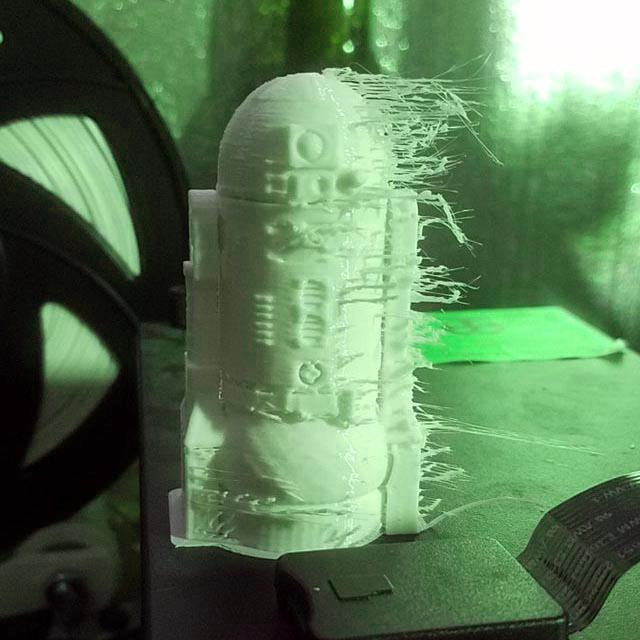Spaghetti: (328, 54, 500, 532), (185, 440, 296, 546)
